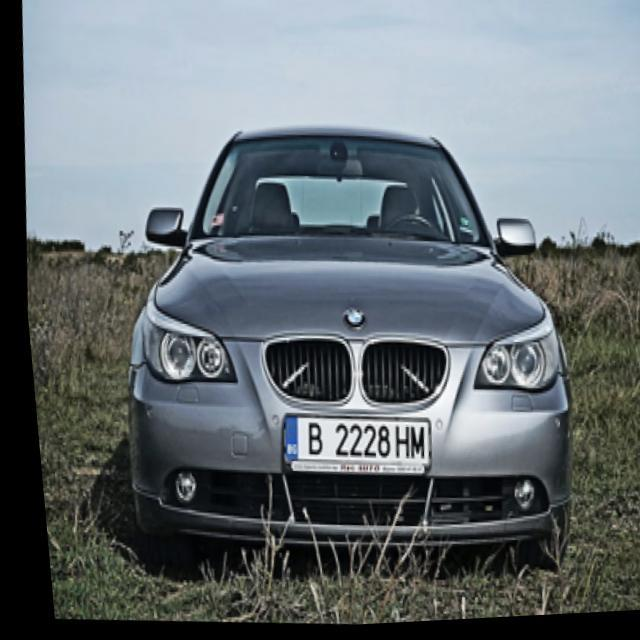license_plate: (271, 406, 424, 476)
